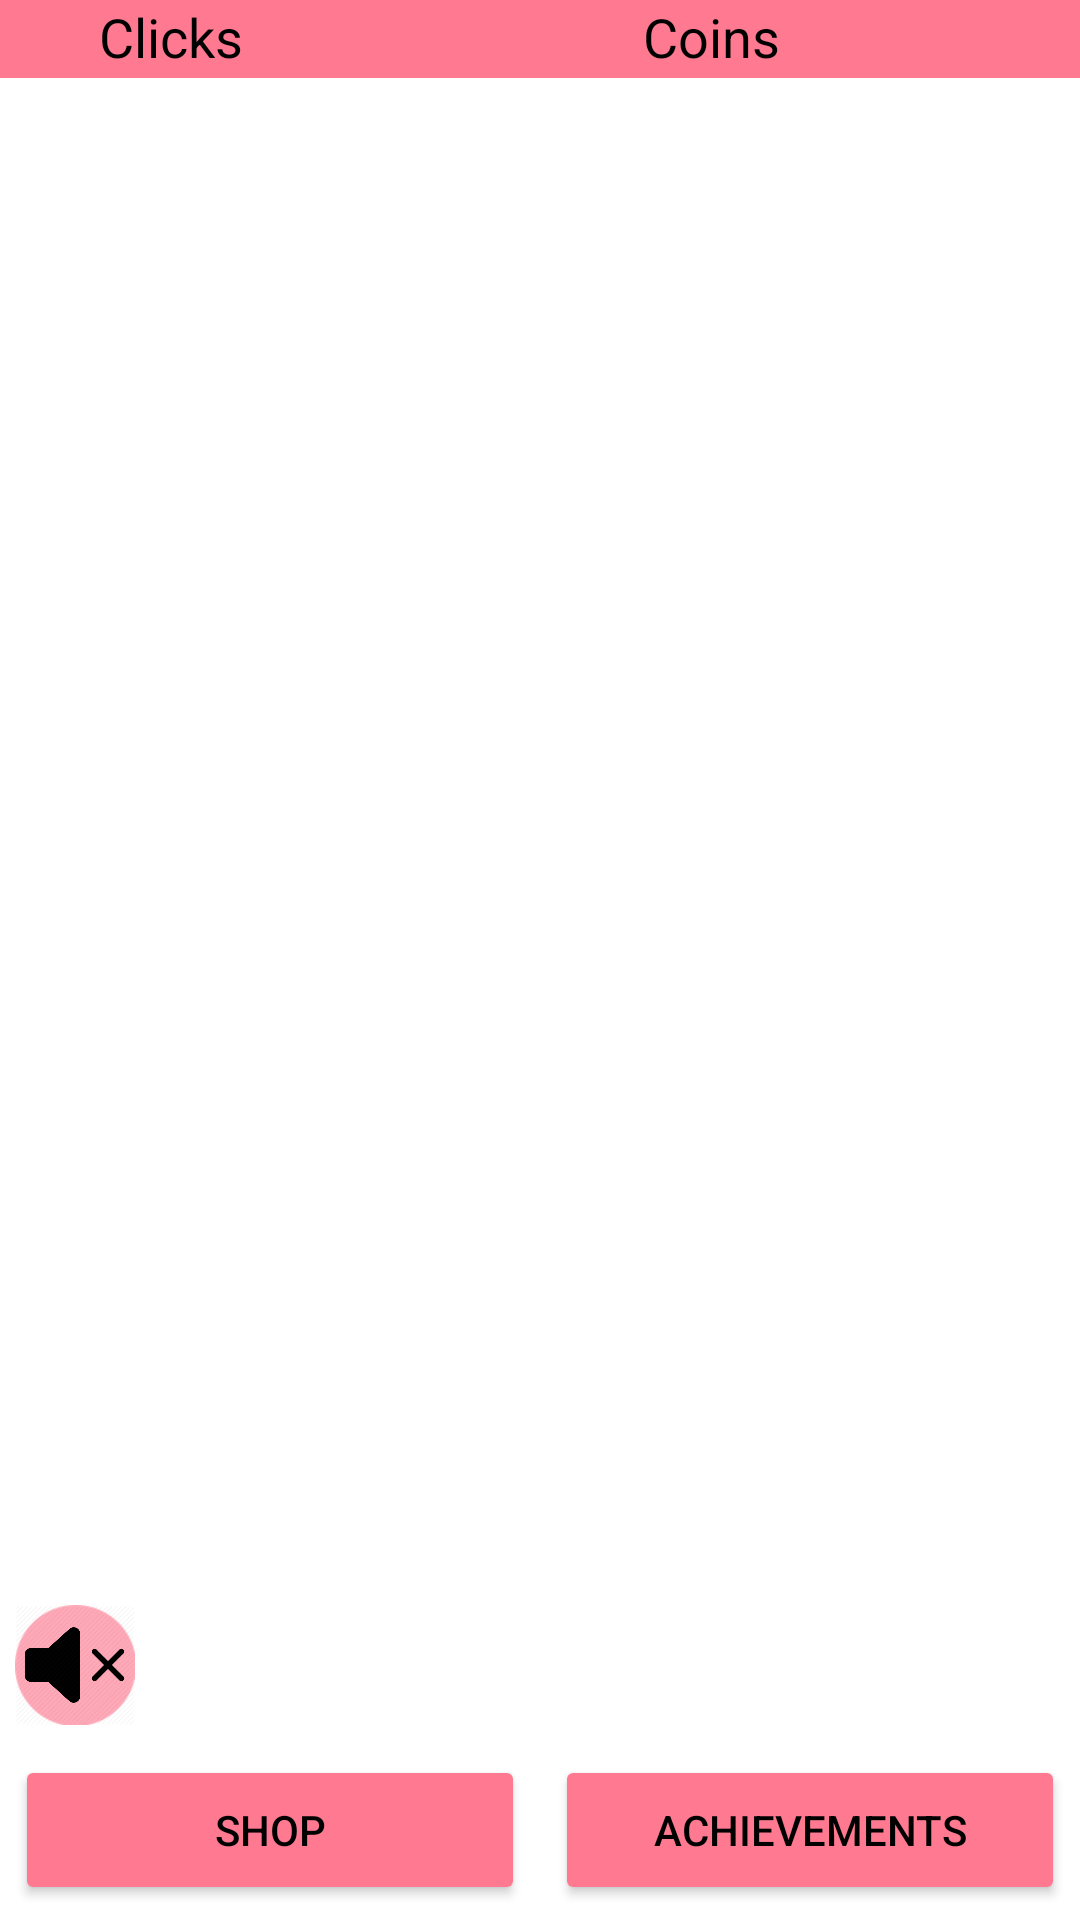

Icons on this 1080px x 1920px Android screen, each with the point to tap as [x,y]:
mute: [75,1665]
